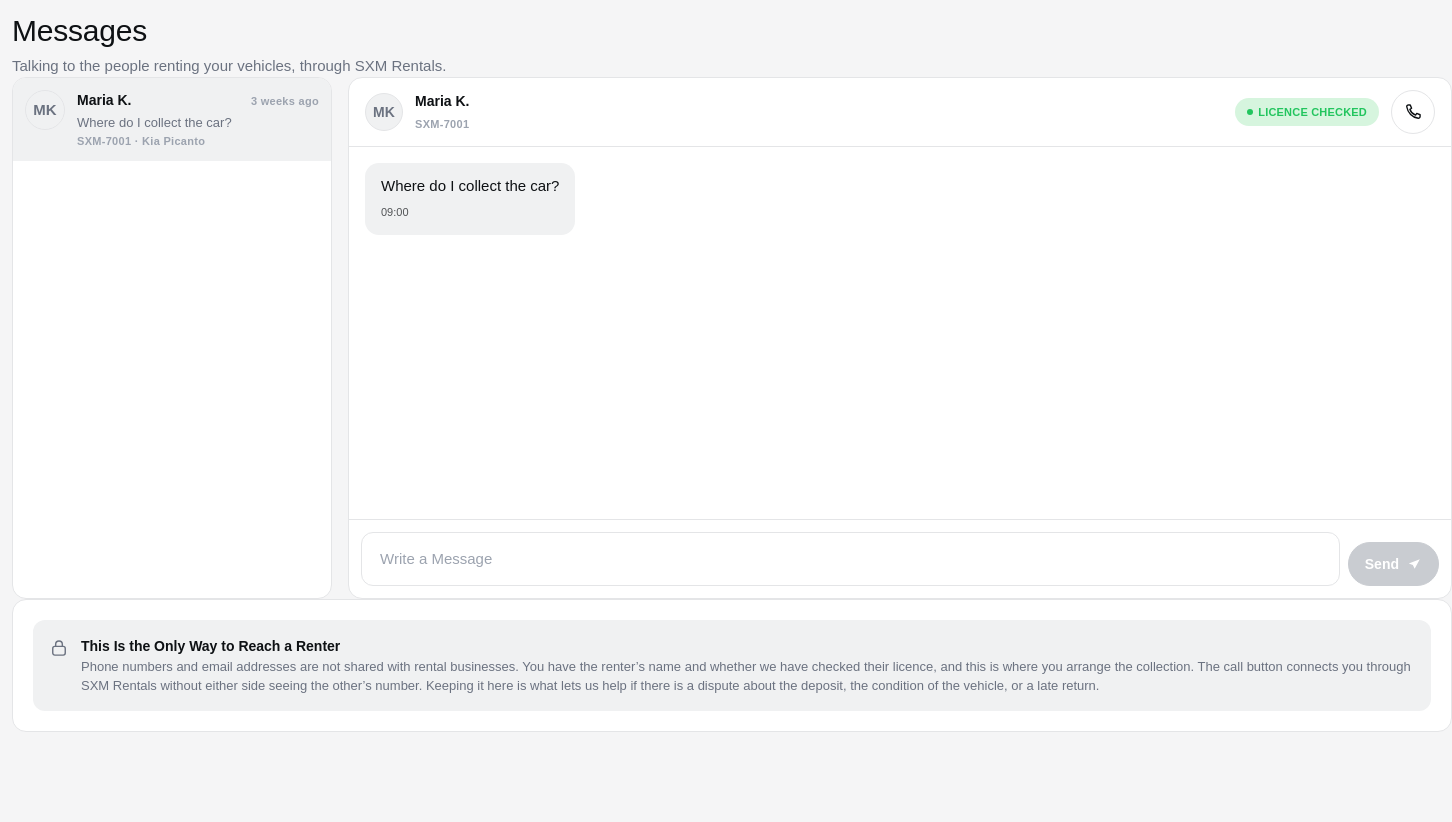
Test case: replying to a renter › keeps a reply that did not send
The width and height of the screenshot is (1452, 822).
Type "At our office." into the field at (850, 559), box [378,536,1323,582]
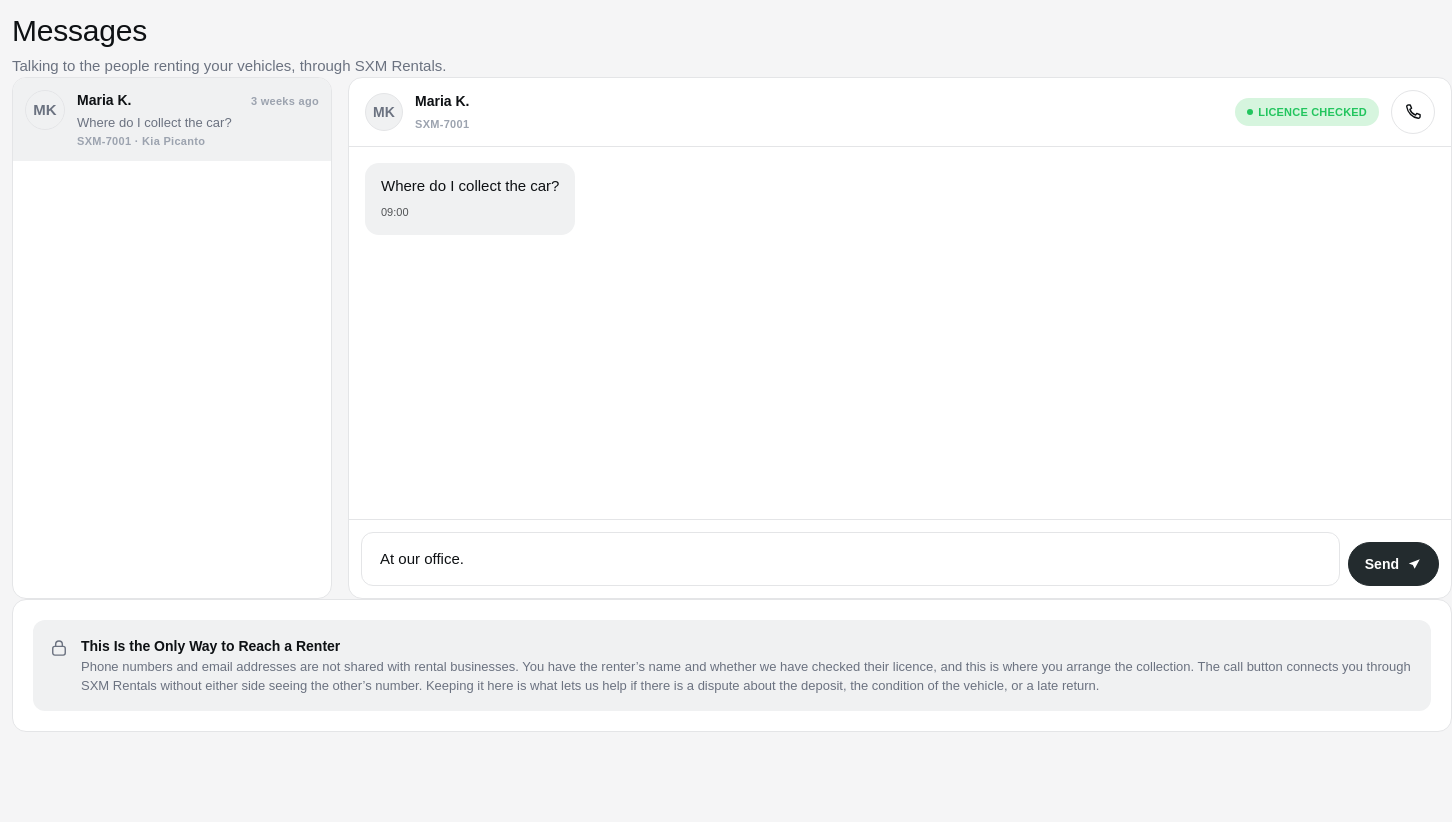
Submit the form, box [349,519,1451,598]
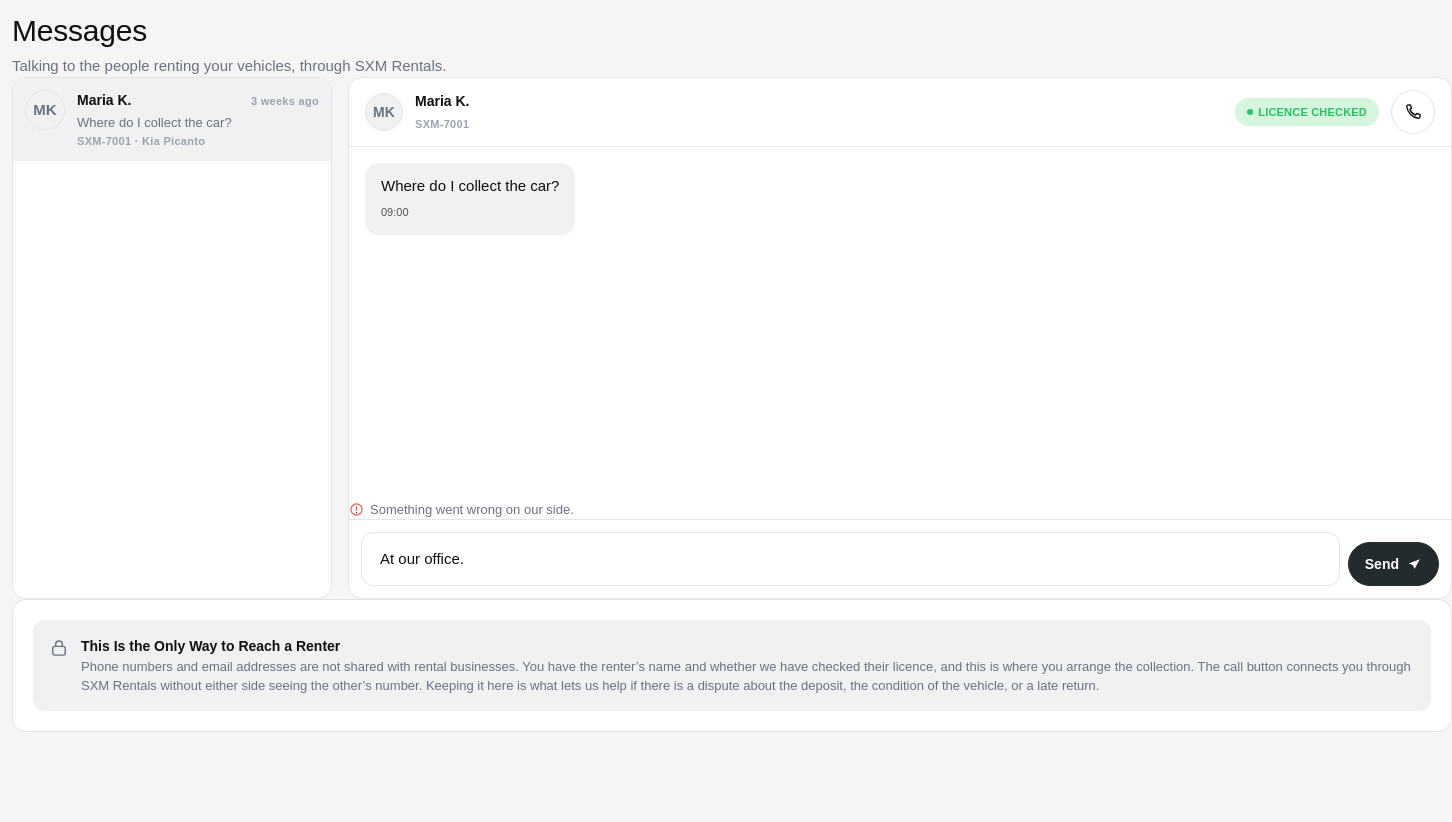
Check: the message "Something went wrong on our side." is shown, box [349,502,574,517]
